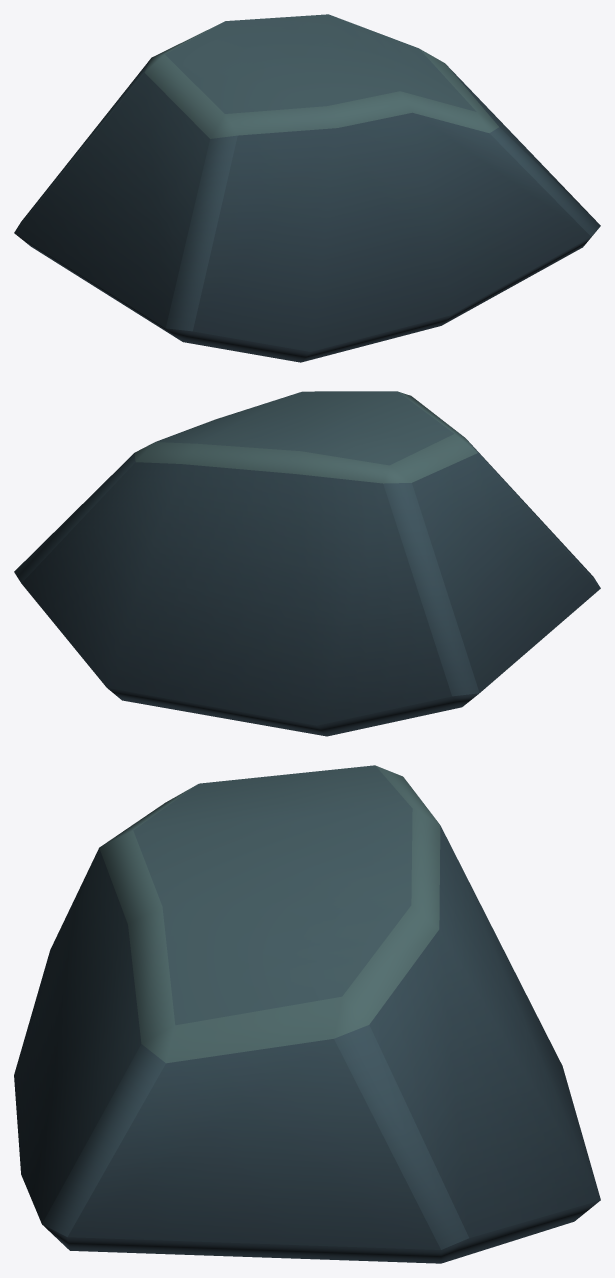
Rendered from rock_16.fbx.
3 views of the same model, one above another, from view 1: azimuth 30°, elevation 25°; view 2: azimuth 150°, elevation 25°; view 3: azimuth 270°, elevation 25° (orthographic). The views are drawn at different scales.
Visible parts, largest first — view 1: rock_16; view 2: rock_16; view 3: rock_16.
Boxes of the visible parts, left/top/right/bottom form: rock_16: left=14, top=14, right=600, bottom=362; rock_16: left=14, top=391, right=600, bottom=736; rock_16: left=14, top=765, right=600, bottom=1263.
Bounding box in the file's own units: 197 × 93.95 × 151.
